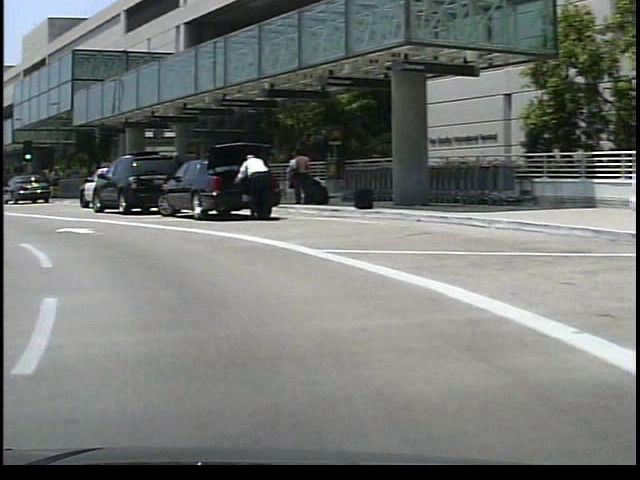person: (228, 153, 272, 227), (288, 150, 308, 210), (280, 150, 298, 210)
